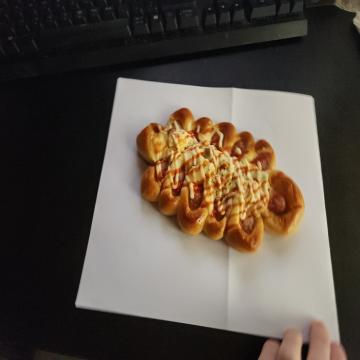pizza_bread: (134, 106, 307, 257)
